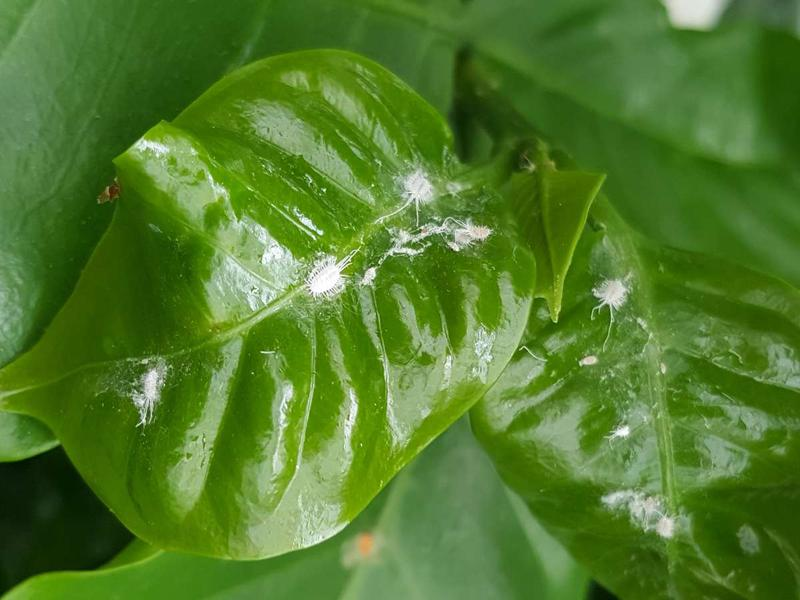Mealy_bug: (560, 251, 696, 545), (286, 154, 508, 329), (84, 326, 197, 439)
